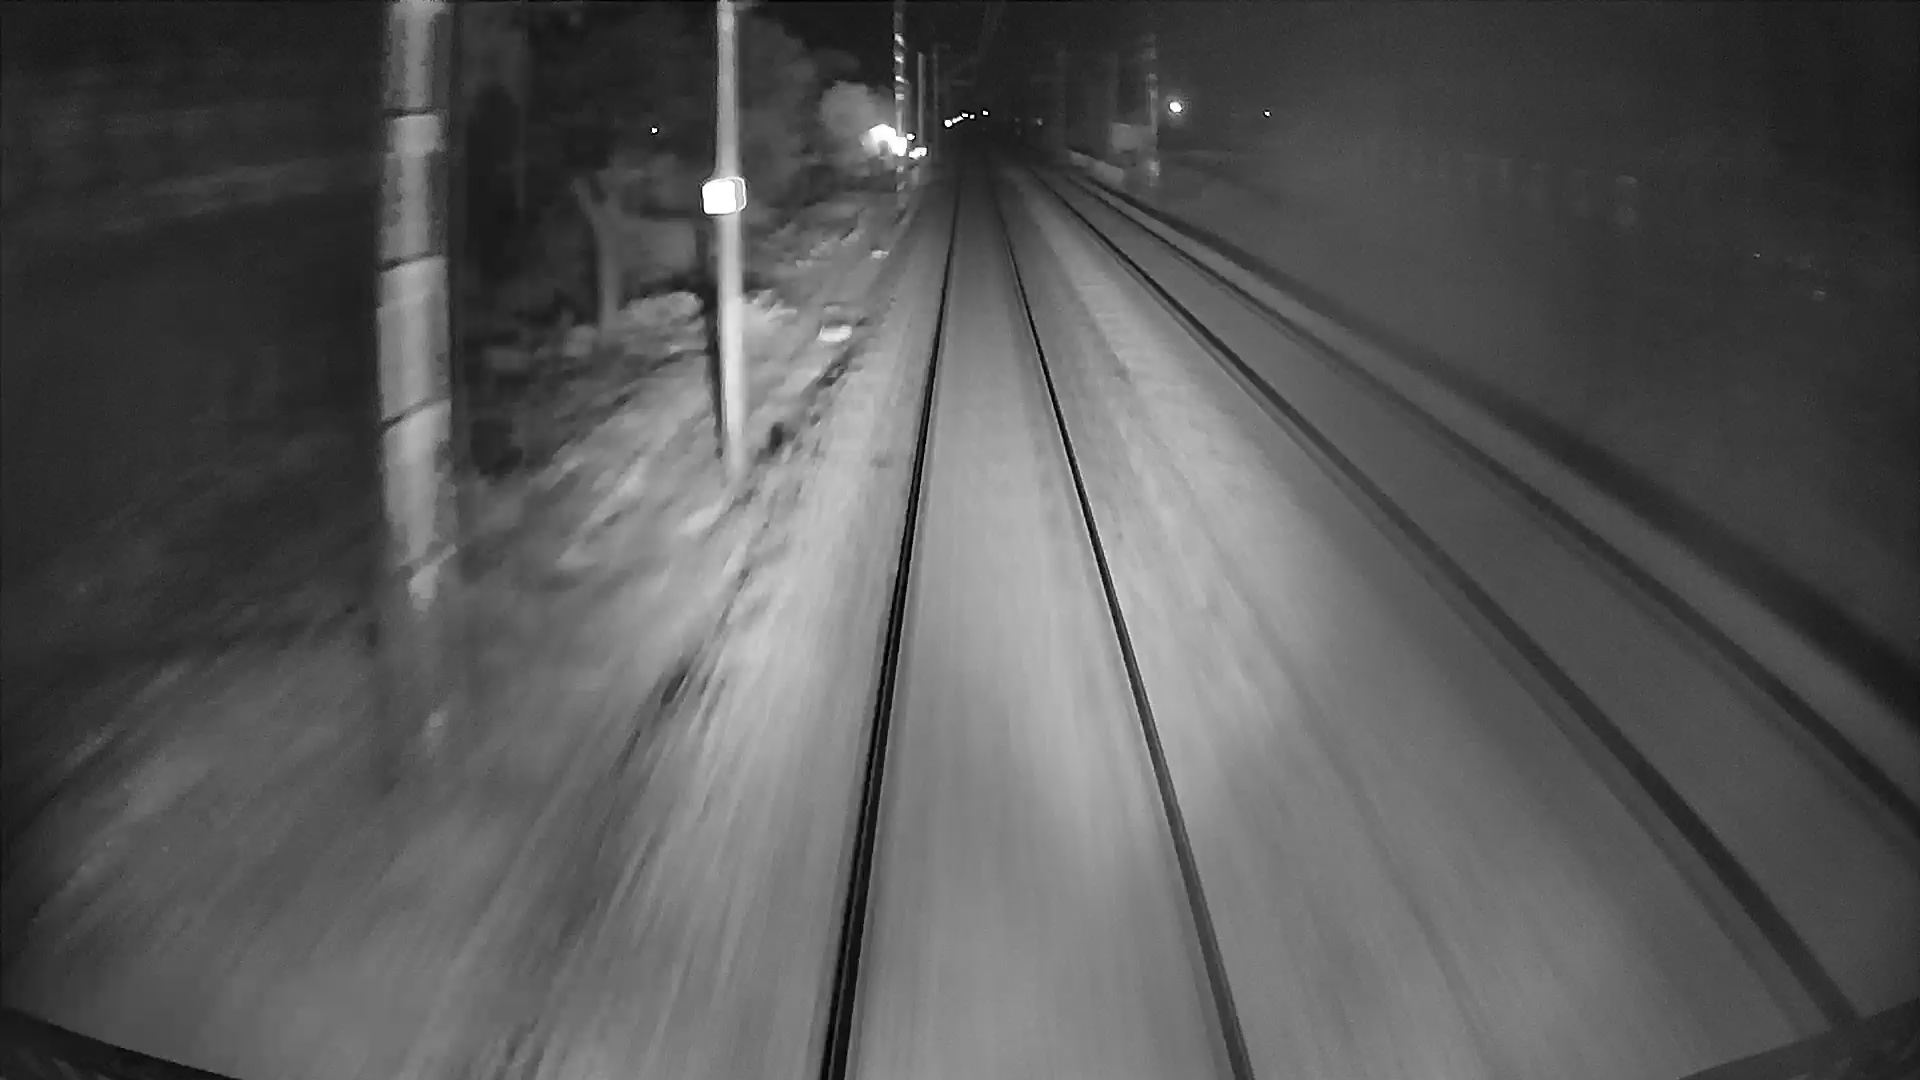track1: (836, 177, 1242, 1062)
track2: (1040, 177, 1905, 1015)
